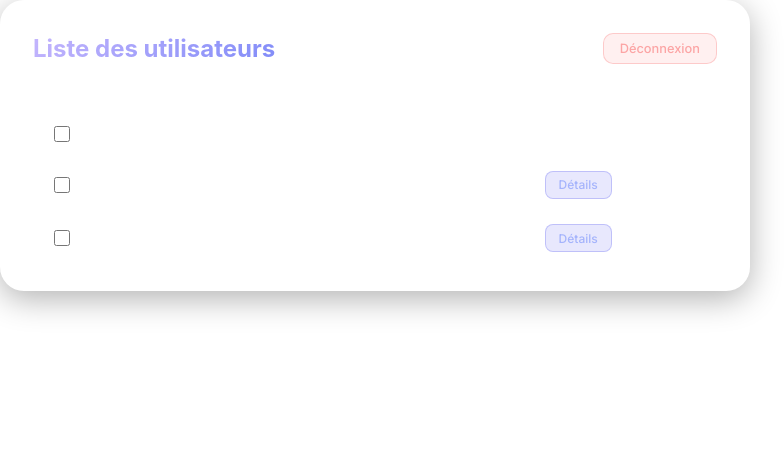
Test: UserList - mode admin (avec token) › affiche une erreur si la suppression échoue
Click the checkbox with id "select-user-1" at point(62, 185), box [54,177,70,193]
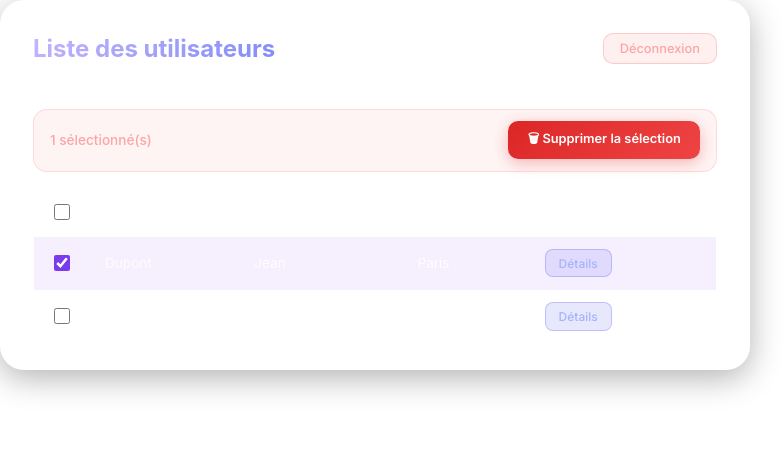
Click the button "🗑 Supprimer la sélection" at point(604, 140), box [508,121,700,159]
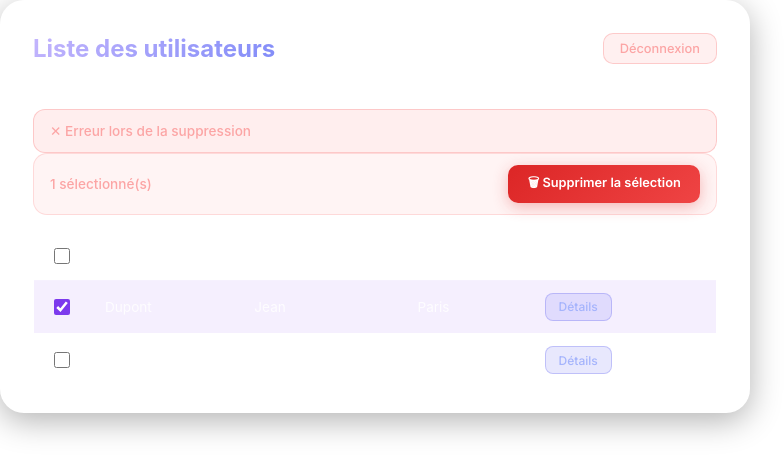
Expected: the text "✕ Erreur lors de la suppression" is shown, [33,109,717,153]
